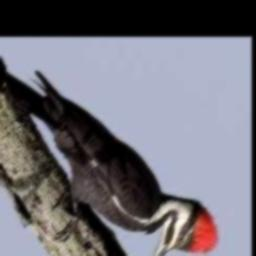Woodpecker: (0, 56, 219, 256)
